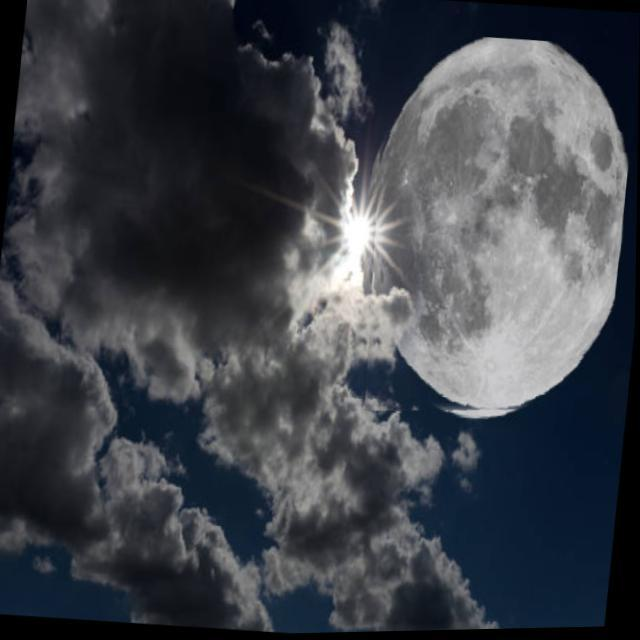moon: (348, 28, 640, 434)
